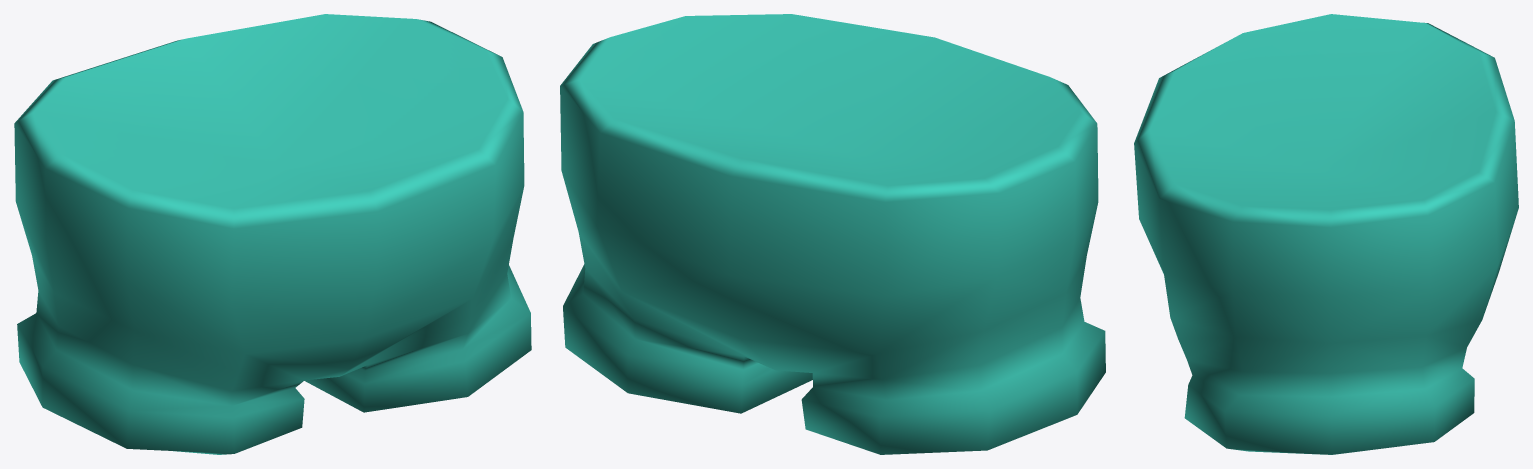
Rendered from Bottom_41.fbx.
3 views of the same model, side by side, from view 1: azimuth 30°, elevation 25°; view 2: azimuth 150°, elevation 25°; view 3: azimuth 270°, elevation 25° (orthographic). The views are drawn at different scales.
Visible parts, largest first — view 1: Bottom_41; view 2: Bottom_41; view 3: Bottom_41.
Part boxes in pixels (bbox=[...]): Bottom_41: bbox=[14, 14, 531, 454]; Bottom_41: bbox=[560, 14, 1105, 454]; Bottom_41: bbox=[1134, 14, 1518, 454].
Size of the model in its own units: 38.94 by 22.89 by 29.68.
